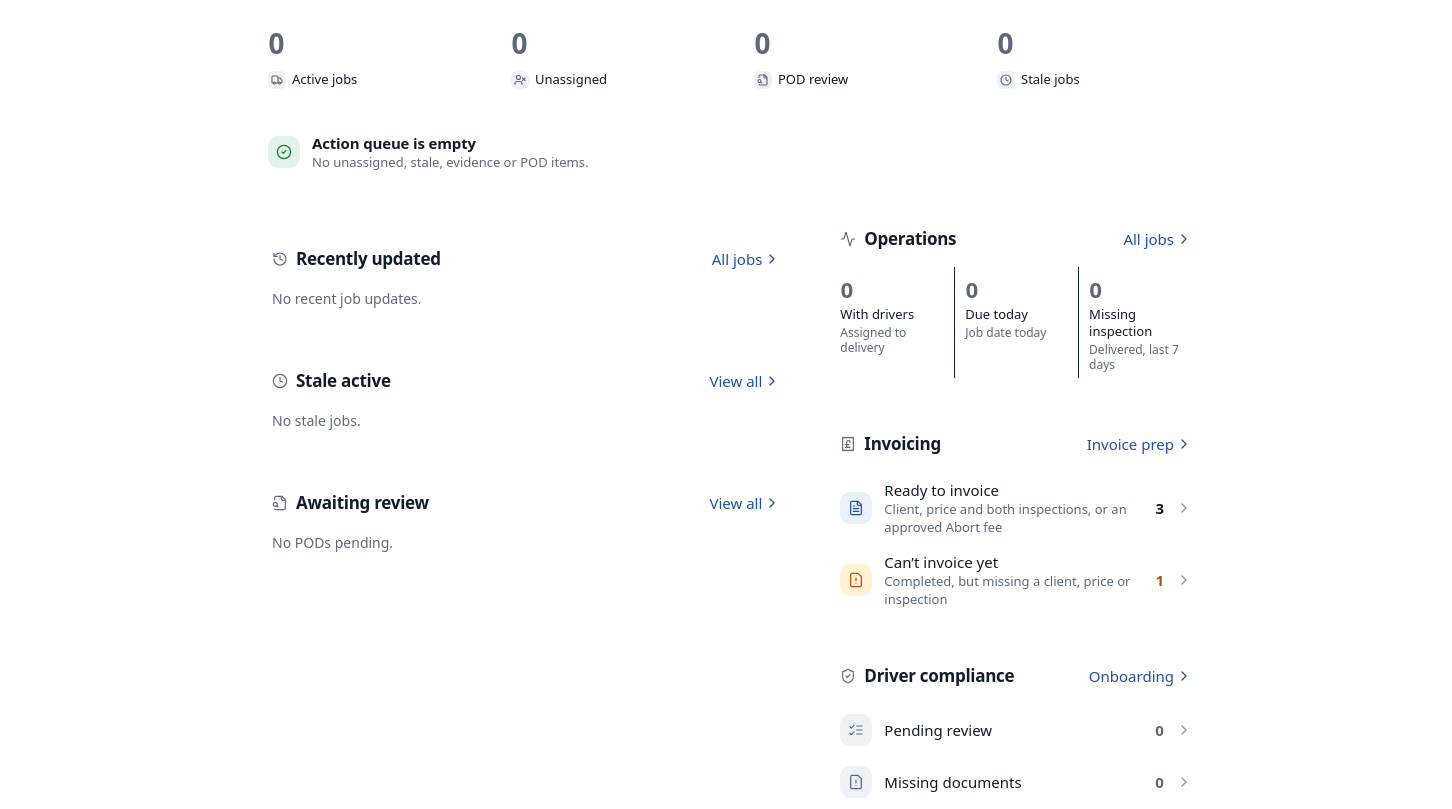
Test: Admin Home UI › keeps invoicing out of the attention banner and shows it in its own section
Expected: the heading "Action queue is empty" is shown, [312,133,476,153]
Expected: the button that starts with "Ready to invoice" shows "3", [820,472,1212,544]
Click the button that starts with "Can’t invoice yet".
click(1016, 580)  # box [820,544,1212,616]
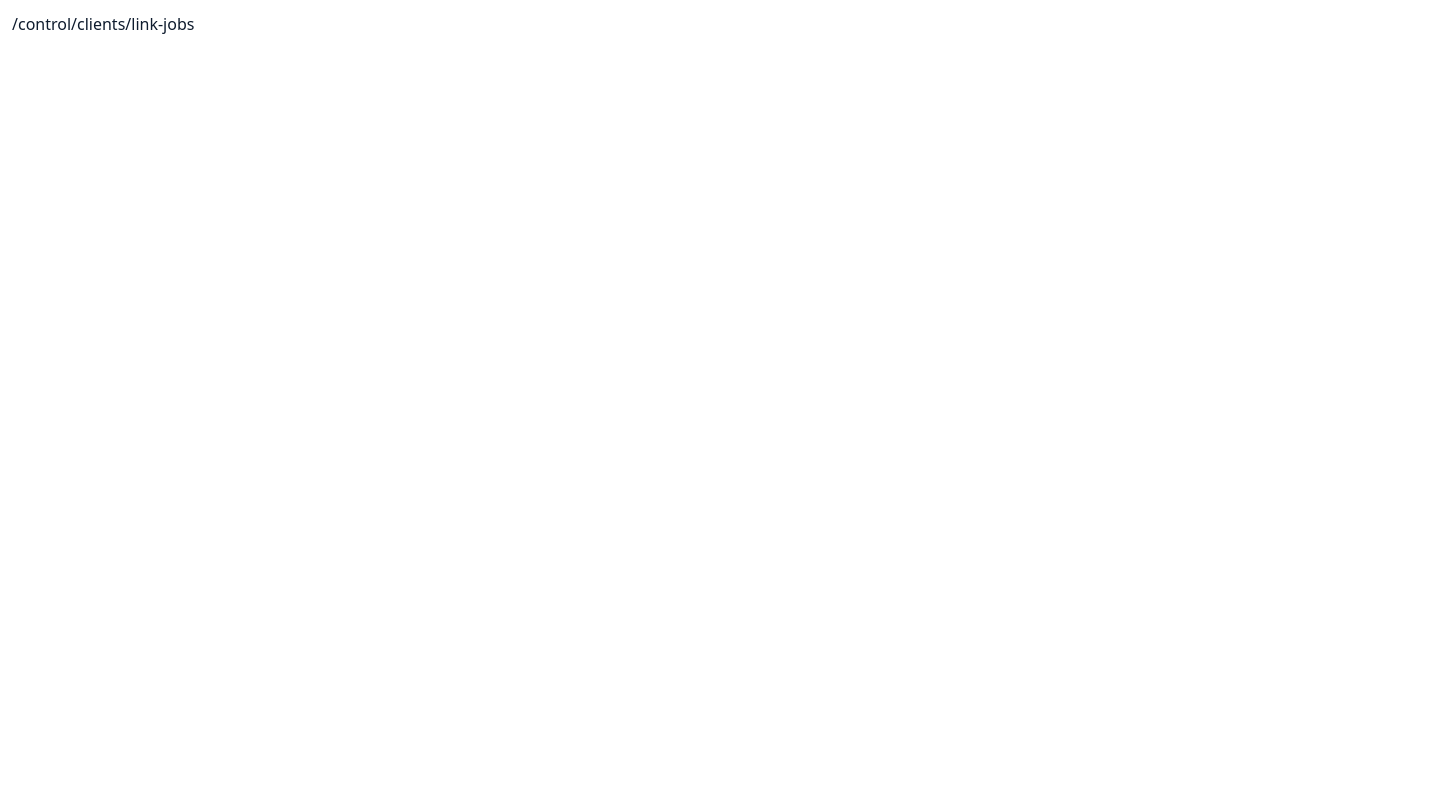
Now the text with test id "landed" reads "/control/clients/link-jobs", box [12,13,194,35]
